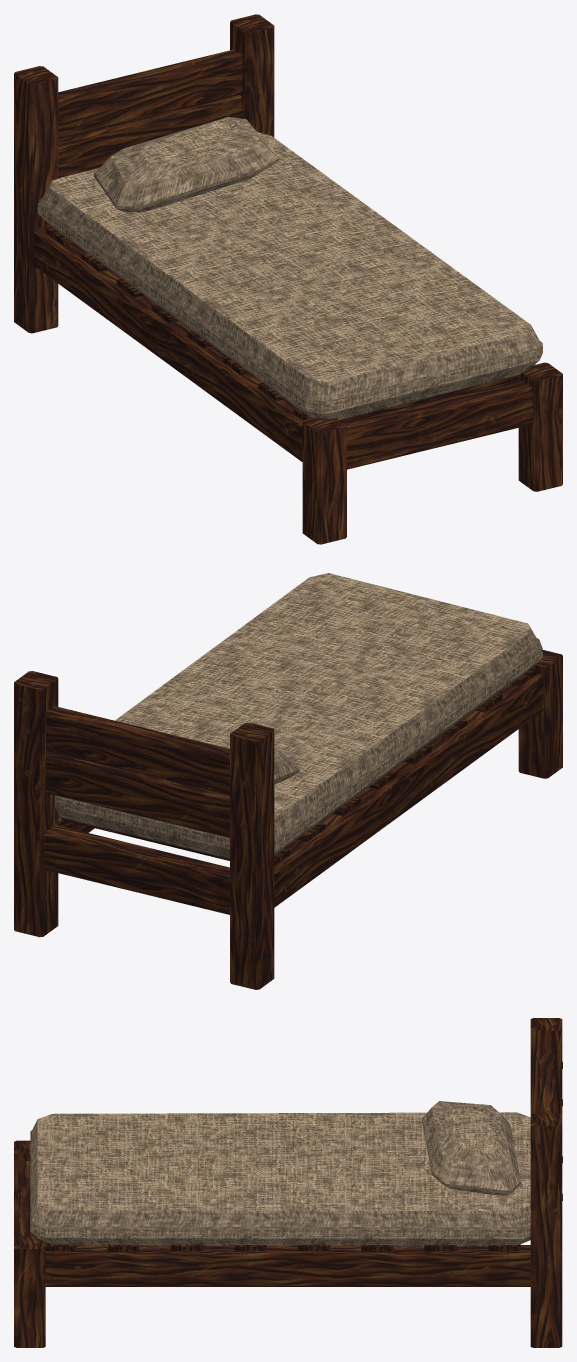
Rendered from Cama-Solteiro-Sem-Manta.glb.
The picture shows the model from 3 angles, top to bottom: view 1: azimuth 30°, elevation 25°; view 2: azimuth 150°, elevation 25°; view 3: azimuth 270°, elevation 25°; orthographic projection. The views are drawn at different scales.
Parts seen in each view (by area): view 1: Colchao, Pés e montantes, Cabeceira, Travessas laterais, Travesseiro 1, Travessas das pontas, Estrado; view 2: Colchao, Pés e montantes, Cabeceira, Travessas laterais, Travessas das pontas, Estrado, Travesseiro 1; view 3: Colchao, Travessas laterais, Pés e montantes, Travesseiro 1, Estrado, Cabeceira, Travessas das pontas.
Boxes of the visible parts, box(x1,y1,x2,y2) form: Colchao: box(37, 132, 542, 419); Pés e montantes: box(14, 14, 562, 544); Cabeceira: box(58, 49, 242, 177); Travessas laterais: box(33, 225, 302, 461); Travesseiro 1: box(94, 117, 278, 212); Travessas das pontas: box(344, 379, 532, 469); Estrado: box(45, 226, 534, 422); Colchao: box(55, 573, 542, 858); Pés e montantes: box(14, 650, 562, 989); Cabeceira: box(46, 706, 229, 837); Travessas laterais: box(58, 674, 543, 907); Travessas das pontas: box(44, 825, 229, 914); Estrado: box(61, 667, 537, 865); Travesseiro 1: box(128, 720, 299, 784); Colchao: box(30, 1112, 530, 1246); Travessas laterais: box(45, 1245, 530, 1286); Pés e montantes: box(14, 1018, 562, 1347); Travesseiro 1: box(422, 1101, 520, 1196); Estrado: box(45, 1242, 520, 1251); Cabeceira: box(537, 1054, 555, 1113); Travessas das pontas: box(18, 1161, 34, 1236).
Size of the model in its own units: 0.925 by 0.894 by 2.
Materials: 2 (2 with a texture image).
